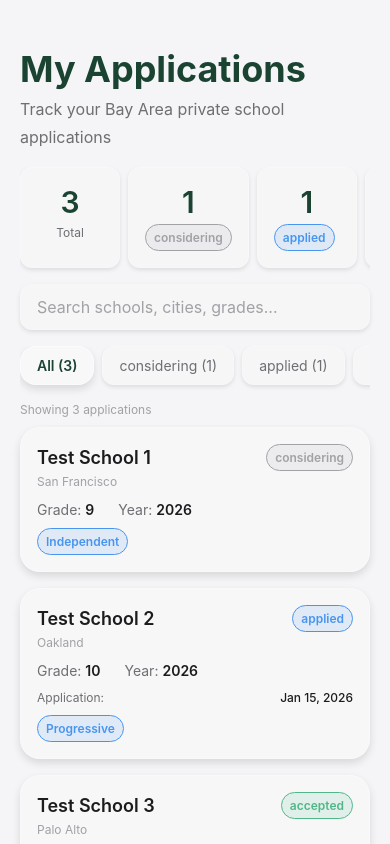
it: DashboardScreen › Search › should filter applications by search query
The width and height of the screenshot is (390, 844).
Expected: the text "Test School 1" is shown, [37,447,151,468]
Note: Search for "Oakland"
Type "Oakland" into the field with placeholder "Search schools, cities, grades..." at (195,307), box [37,293,353,321]
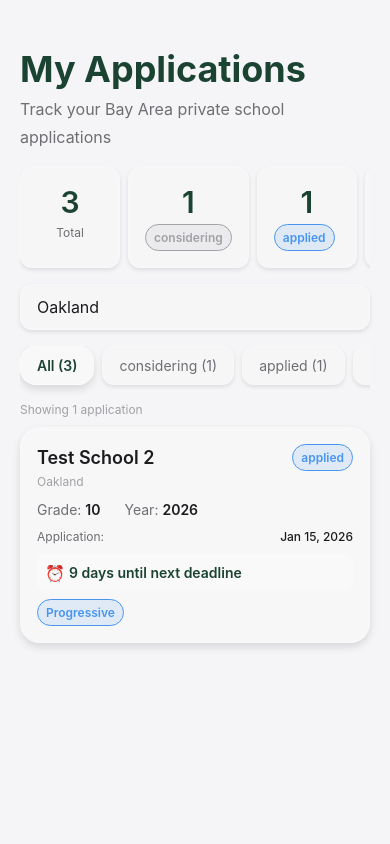
Expected: the text "Test School 2" is shown, [37,447,154,468]
Result: the text "Test School 1" is gone
